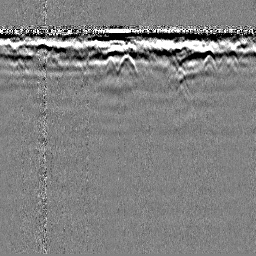cavity: (116, 53, 139, 75)
